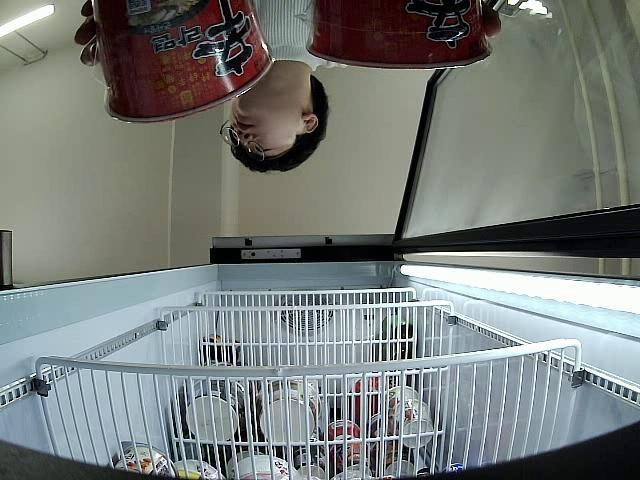01_ShinRamen_L: (93, 0, 276, 126), (308, 2, 493, 71)
